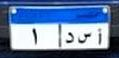1: (31, 27, 38, 45)
alif: (96, 27, 103, 46)
daal: (65, 32, 75, 44)
seen: (76, 30, 93, 45)
